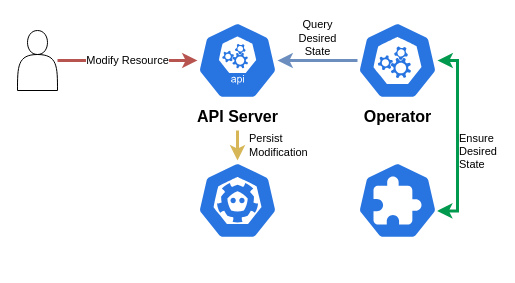
Some shapes in this 515 by 283 pixel diagram are drawn without their labels. The centre of each missing label's shape, as x and y in pixels:
"ETCD" belongs at point 237,200.
"Resource" belongs at point 397,200.
